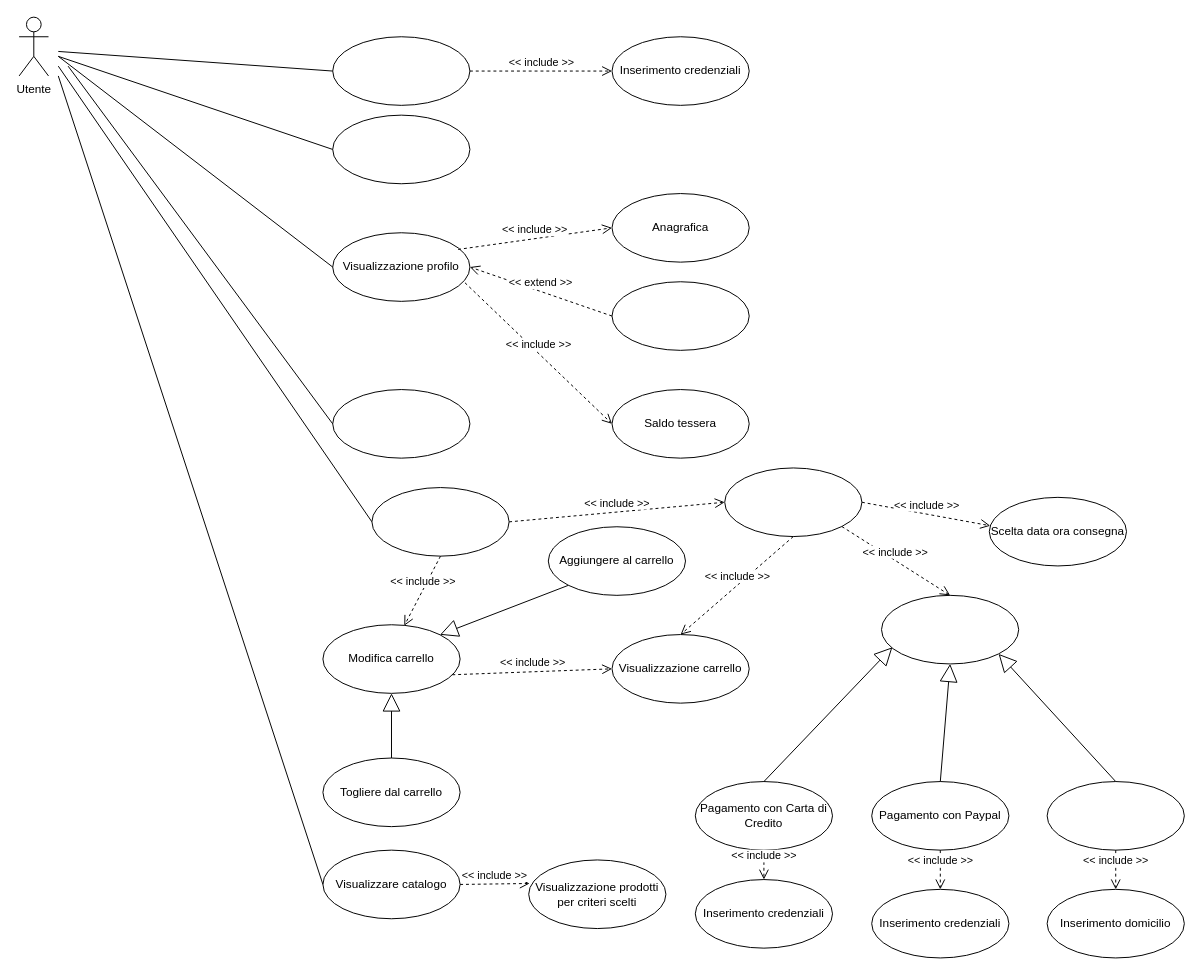
Image size: 1201x975. Some labels were removed from this diagram. The shapes that lost their labels are listed below. From the top down, each one's centre as x and y in pixels, then its label:
the point at 401,70: Registrazione nel sistema
the point at 401,149: Autenticazione
the point at 680,315: Visualizazione delle spese effettuate
the point at 401,423: Modifica profilo
the point at 440,521: Creazione ordine
the point at 793,502: Conferma ordine
the point at 950,629: Pagamento
the point at 1115,815: Pagamento alla consegna
